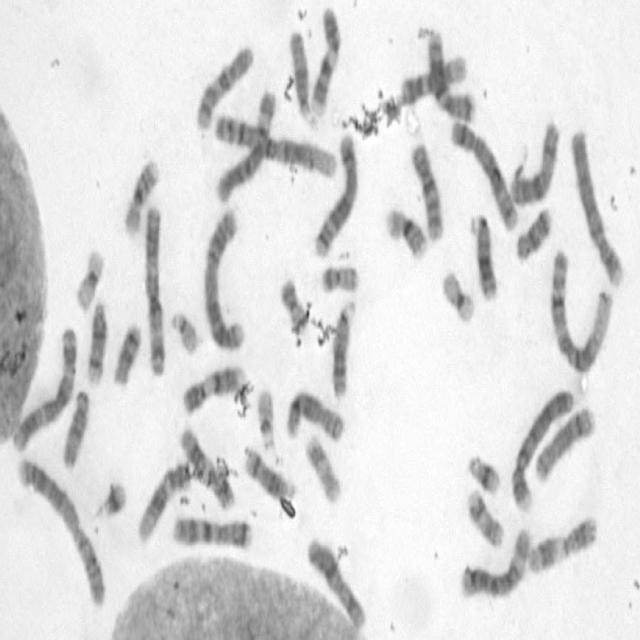A1: (212, 109, 338, 181), (548, 243, 614, 377)
A2: (14, 451, 107, 610), (201, 203, 246, 354)
A3: (10, 322, 78, 453), (142, 202, 167, 376)
B4: (568, 124, 624, 289), (508, 382, 574, 514)
B5: (447, 114, 519, 234), (311, 129, 359, 259)
C10: (192, 40, 255, 132), (408, 137, 445, 243)
C11: (177, 422, 236, 512), (524, 509, 599, 578)
C12: (136, 456, 192, 544), (396, 50, 468, 108)
C6: (213, 84, 278, 204), (456, 522, 533, 600)
C7: (424, 26, 476, 126), (170, 509, 253, 553)
C8: (531, 400, 597, 484), (282, 384, 346, 445)
C9: (308, 4, 343, 117), (180, 359, 247, 417)
D13: (328, 296, 356, 401), (467, 210, 498, 301)
D14: (240, 442, 296, 503), (83, 297, 109, 387)
D15: (59, 385, 90, 471), (287, 26, 313, 124)
E16: (120, 154, 160, 239), (383, 203, 428, 260)
E17: (302, 429, 342, 507), (465, 484, 505, 550)
E18: (513, 203, 553, 264), (110, 318, 143, 388)
F19: (73, 245, 106, 313), (440, 266, 476, 324)
F20: (278, 274, 308, 332), (318, 260, 361, 294)
G21: (92, 473, 130, 522), (466, 450, 502, 496)
G22: (168, 306, 200, 358), (255, 384, 278, 453)
X: (305, 533, 367, 631), (508, 115, 561, 208)
